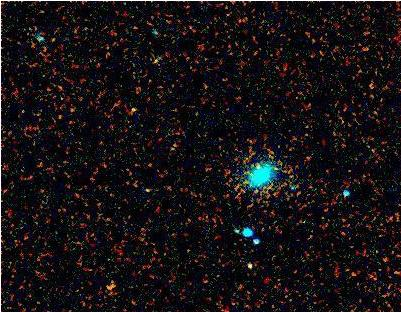star: (139, 46, 169, 76)
